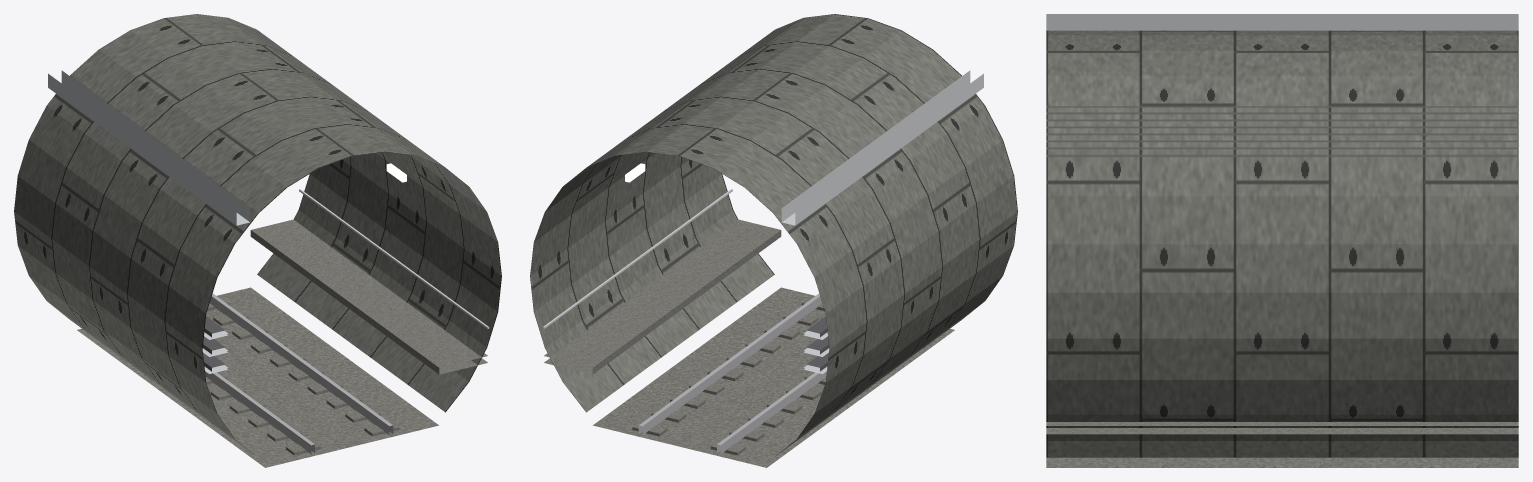
Rendered from wl80-r3-game-metro-assets-tunnel.glb.
3 views of the same model, side by side, from view 1: azimuth 30°, elevation 25°; view 2: azimuth 150°, elevation 25°; view 3: azimuth 270°, elevation 25° (orthographic). The views are drawn at different scales.
Parts seen in each view (by area): view 1: tunnel_seg; view 2: tunnel_seg; view 3: tunnel_seg.
Part boxes in pixels (<box>): tunnel_seg: <box>14,14,501,467</box>; tunnel_seg: <box>530,14,1017,467</box>; tunnel_seg: <box>1046,14,1518,467</box>.
Bounding box in the file's own units: 5.5 × 5.11 × 6.
6 materials, 2 textured.
